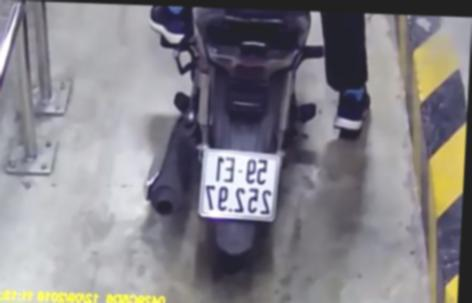License_Plate: (194, 145, 294, 224)
